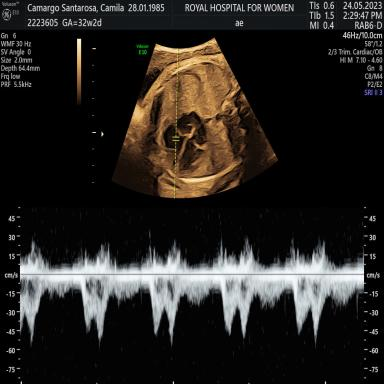Ultrasound-Waves: (25, 209, 359, 384)
